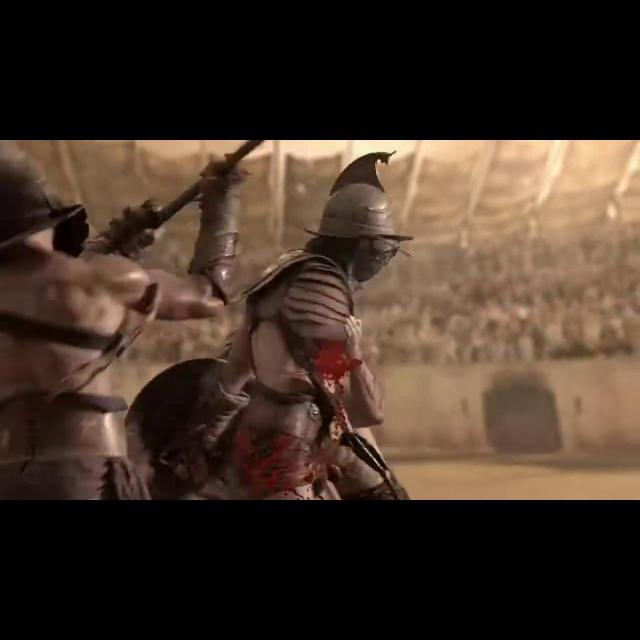blood: (233, 425, 326, 500), (311, 340, 362, 440)
